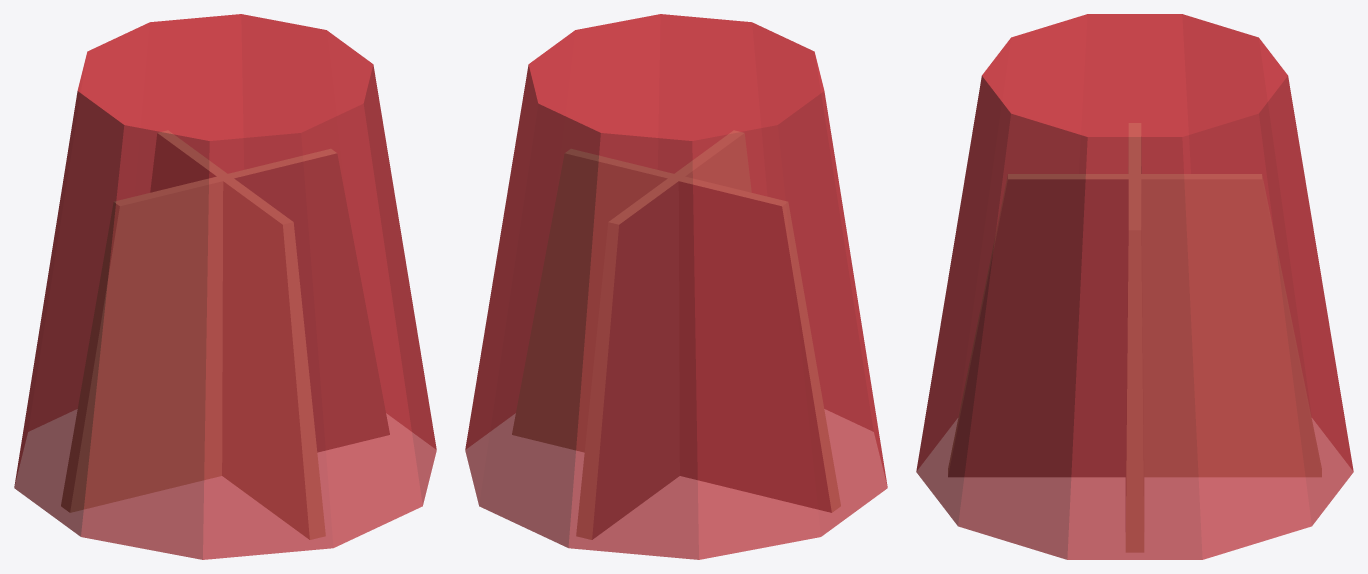
The model's file is patolamp.fbx.
3 renders of one model, left to right at view 1: azimuth 30°, elevation 25°; view 2: azimuth 150°, elevation 25°; view 3: azimuth 270°, elevation 25°, orthographic.
Visible parts, largest first — view 1: PatoCover, PatoIn; view 2: PatoCover, PatoIn; view 3: PatoCover, PatoIn.
Boxes of the visible parts, x1,y1,x2,y2 form: PatoCover: (14,14,436,559); PatoIn: (61,130,389,539); PatoCover: (465,14,887,559); PatoIn: (512,130,840,539); PatoCover: (916,14,1353,559); PatoIn: (948,123,1321,552).
Bounding box in the file's own units: 190 × 201 × 200.
